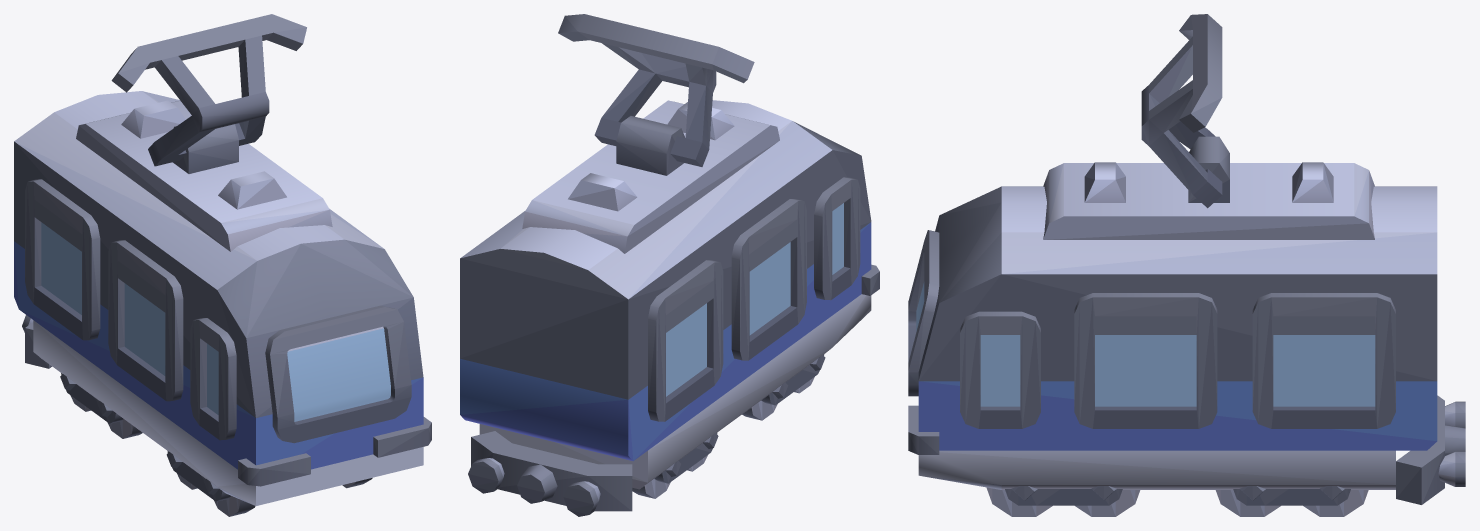
3 renders of one model, left to right at view 1: azimuth 30°, elevation 25°; view 2: azimuth 150°, elevation 25°; view 3: azimuth 270°, elevation 25°, orthographic. The views are drawn at different scales.
Visible parts, largest first — view 1: Scene, collector, wheels-front, wheels-back; view 2: Scene, collector, wheels-back, wheels-front; view 3: Scene, collector, wheels-front, wheels-back.
Part boxes in pixels (<box>): Scene: <box>14,91,431,505</box>; collector: <box>111,14,306,166</box>; wheels-front: <box>166,451,372,516</box>; wheels-back: <box>60,373,142,438</box>; Scene: <box>460,100,879,516</box>; collector: <box>558,14,754,166</box>; wheels-back: <box>632,433,718,498</box>; wheels-front: <box>742,354,825,420</box>; Scene: <box>908,136,1465,504</box>; collector: <box>1141,14,1222,208</box>; wheels-front: <box>986,486,1140,516</box>; wheels-back: <box>1215,486,1368,516</box>.
Bounding box in the file's own units: 2.55 × 5.2 × 6.07.
